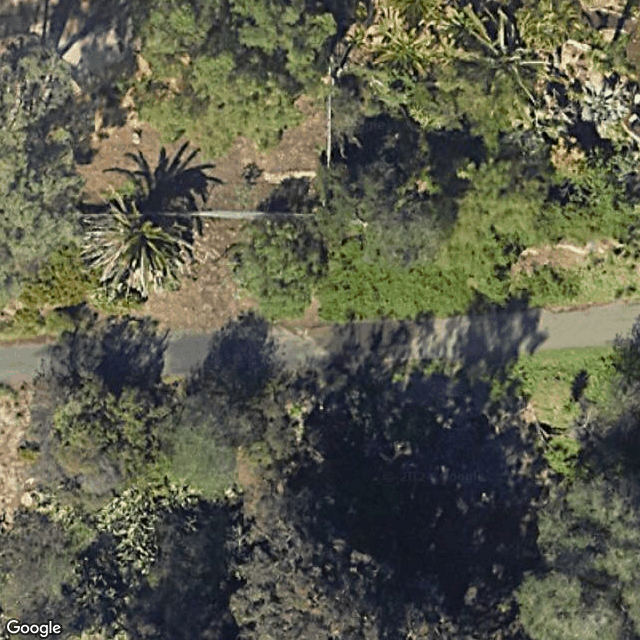palm: (67, 180, 214, 310), (451, 3, 554, 110)
